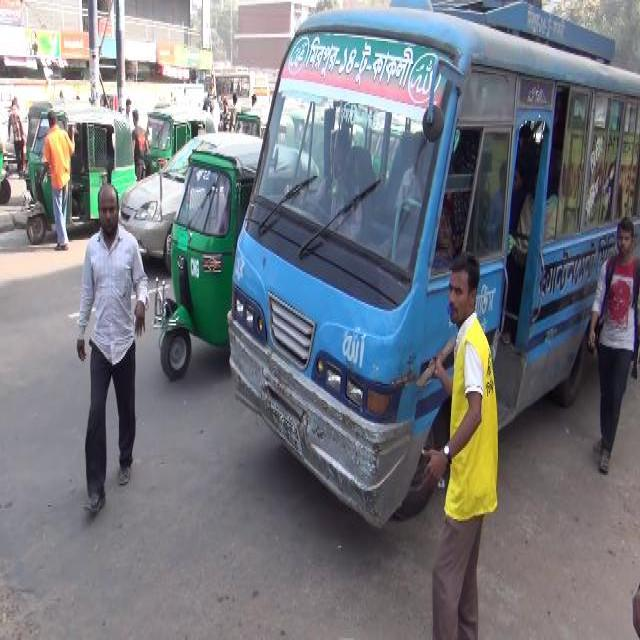vehicle: (225, 3, 640, 529), (163, 142, 315, 418), (114, 128, 256, 276), (24, 106, 136, 241), (24, 93, 79, 183), (148, 102, 214, 175), (233, 107, 299, 162), (216, 67, 270, 117), (1, 127, 14, 213)
